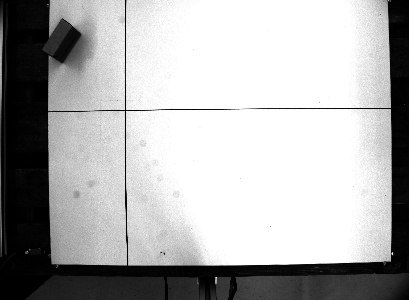b1: (39, 16, 82, 63)
